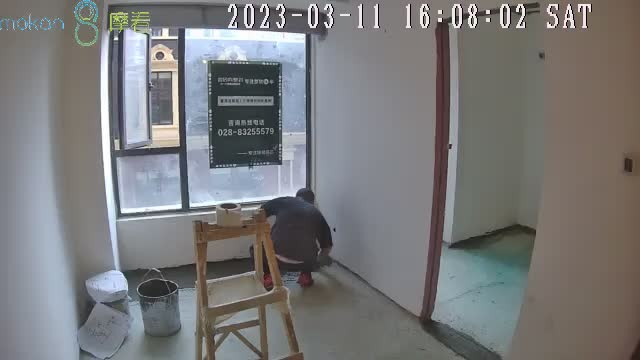people: (258, 189, 333, 289)
window: (106, 21, 311, 217)
